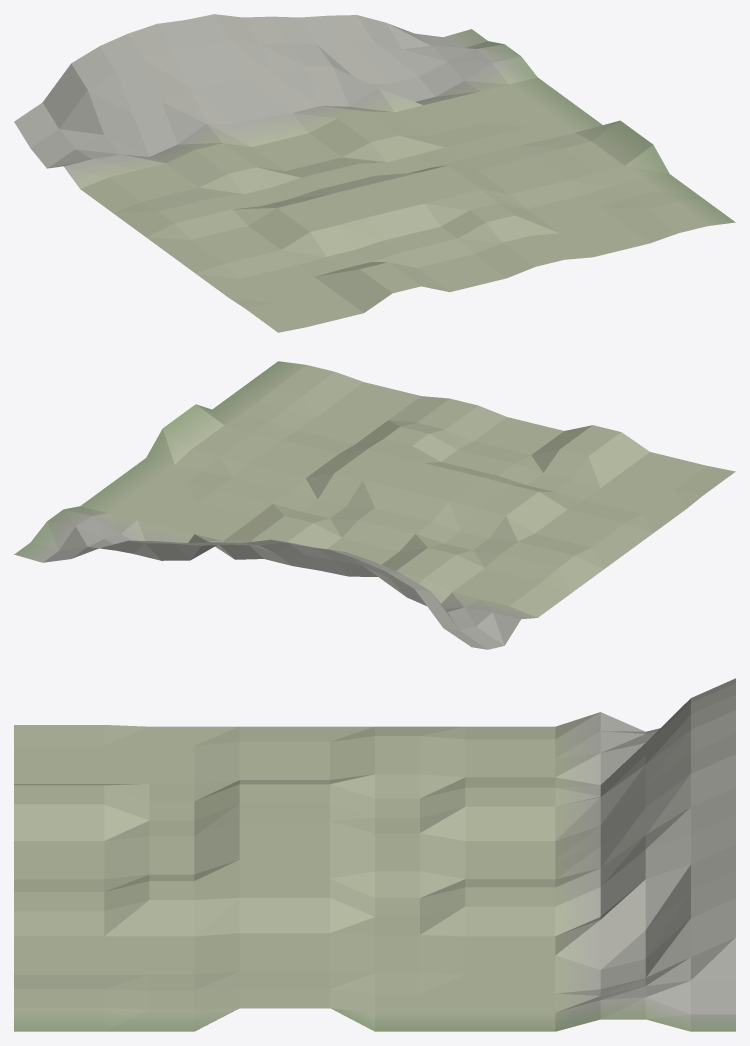
The picture shows the model from 3 angles, top to bottom: view 1: azimuth 30°, elevation 25°; view 2: azimuth 150°, elevation 25°; view 3: azimuth 270°, elevation 25°; orthographic projection. The views are drawn at different scales.
Bounding box in the file's own units: 32 × 6.19 × 32.
